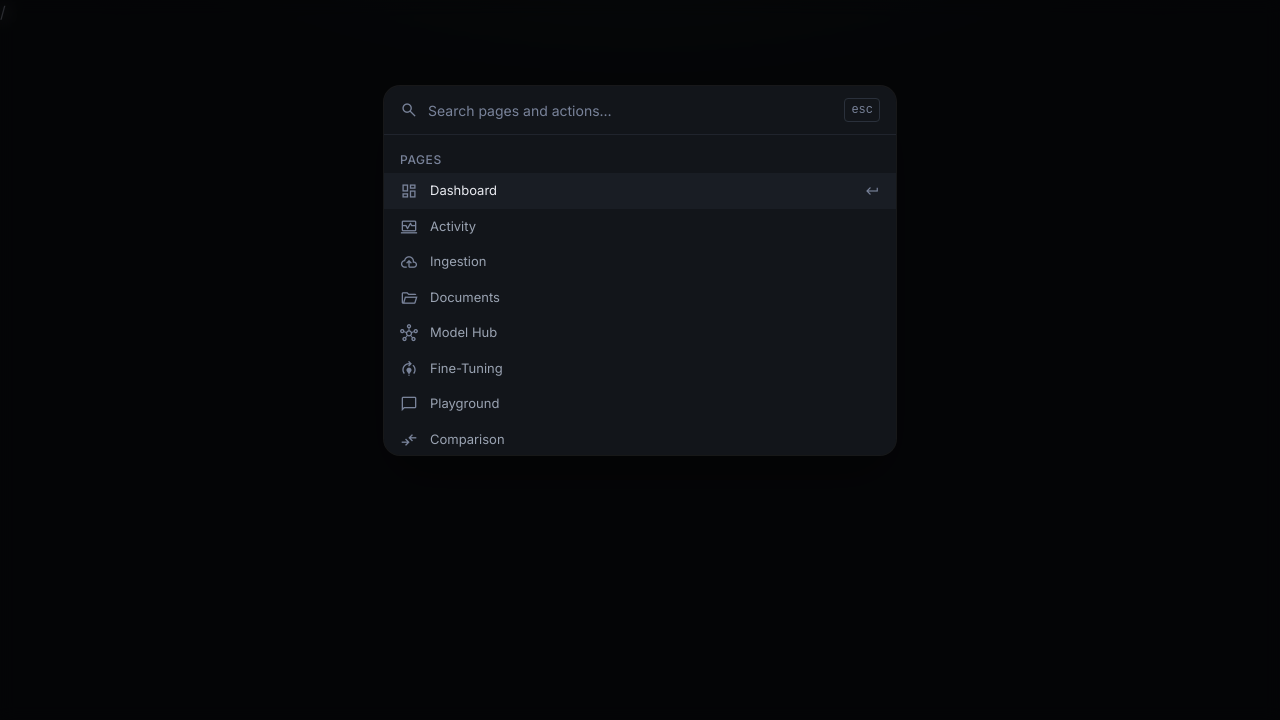
Test case: CommandPalette › filters commands, ignoring case and accents
The image size is (1280, 720).
Type "éVAL" into the dropdown at (631, 110), box [428,86,834,134]
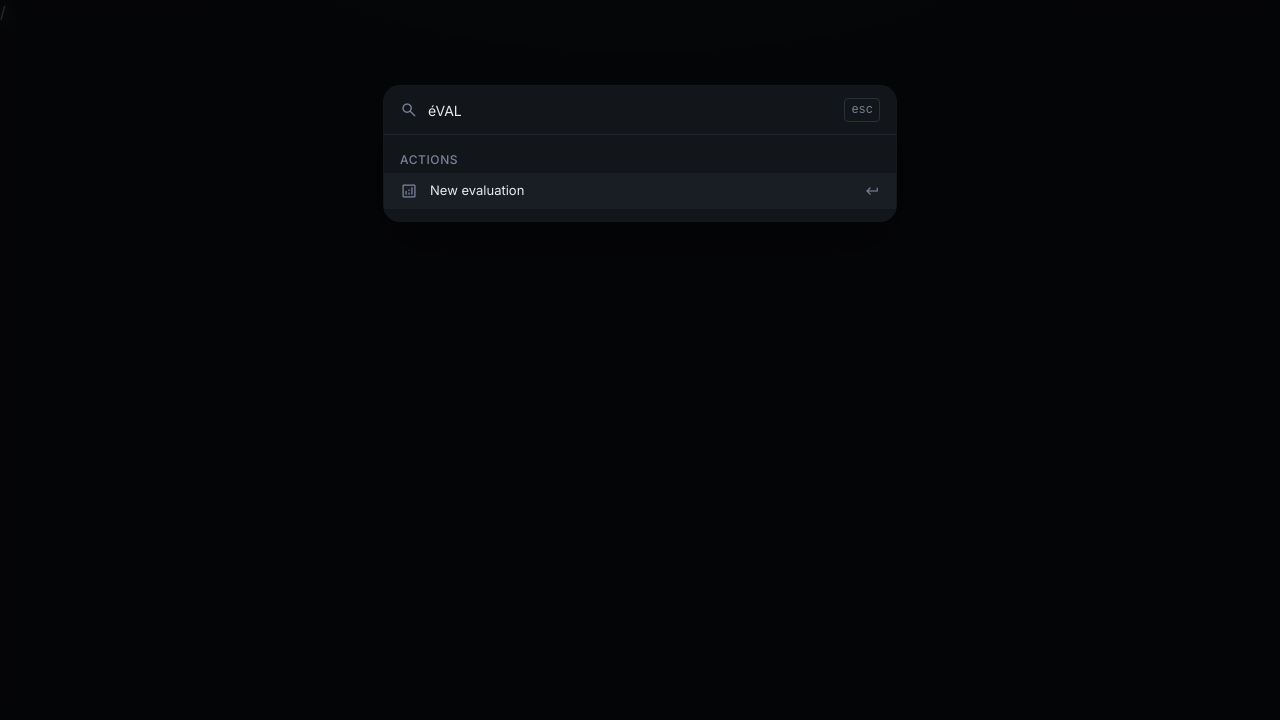
Result: the option "New evaluation" is shown at [384,173,896,209]
Result: the option "Dashboard" is gone
